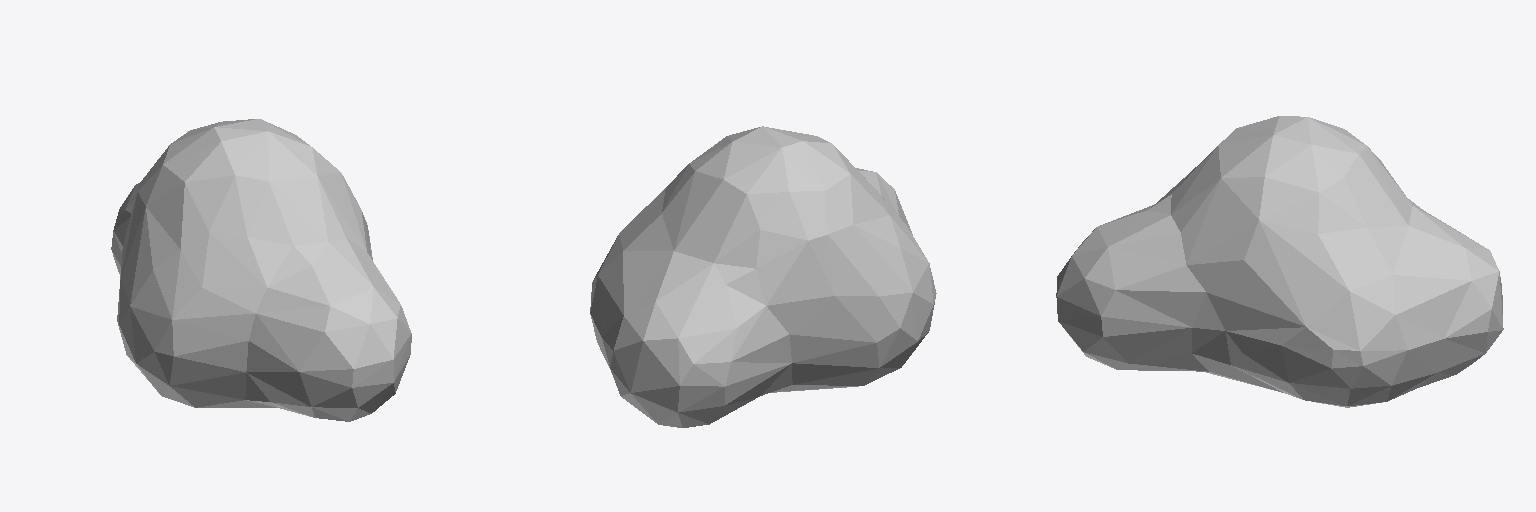
The model's file is cloud.obj.
The picture shows the model from 3 angles: view 1: azimuth 30°, elevation 25°; view 2: azimuth 150°, elevation 25°; view 3: azimuth 270°, elevation 25°; orthographic projection.
Parts seen in each view (by area): view 1: Mball.007; view 2: Mball.007; view 3: Mball.007.
Part boxes in pixels (x1,y1,x2,y2): Mball.007: (111,119,411,421); Mball.007: (590,126,936,427); Mball.007: (1056,116,1503,407).
Bounding box in the file's own units: 4.55 × 4.03 × 6.5.